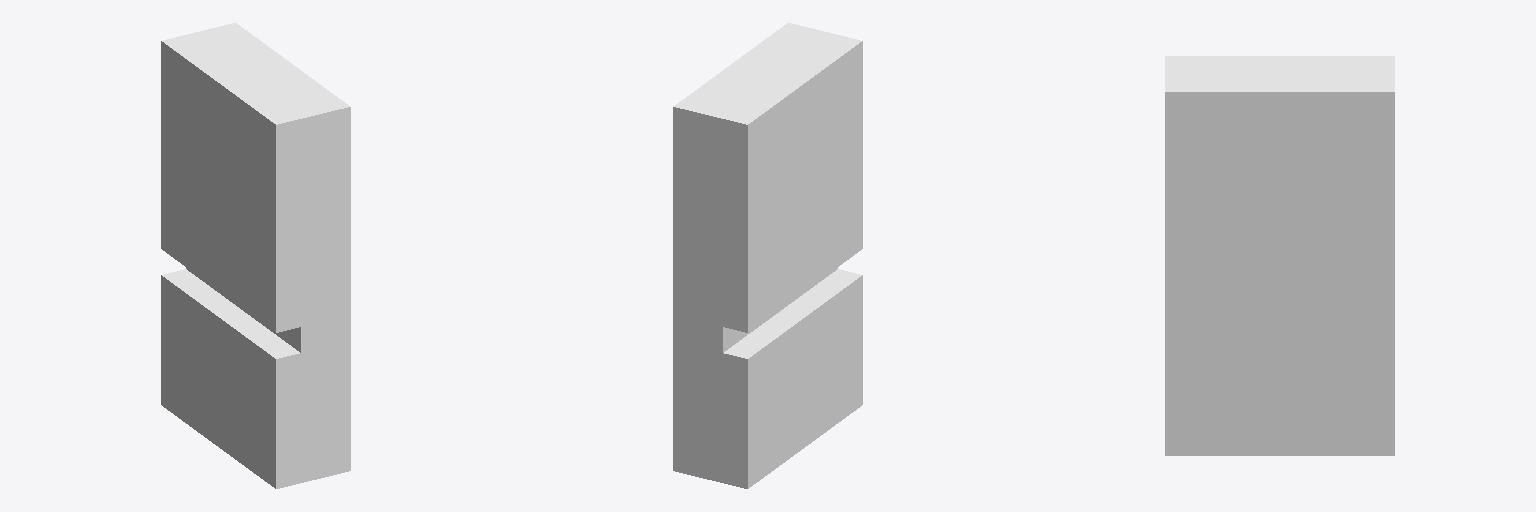
File: enemy_b_arm.obj
3 renders of one model, left to right at view 1: azimuth 30°, elevation 25°; view 2: azimuth 150°, elevation 25°; view 3: azimuth 270°, elevation 25°, orthographic.
Visible parts, largest first — view 1: object 1; view 2: object 1; view 3: object 1.
Boxes of the visible parts, x1=… form: object 1: x1=161, y1=23, x2=350, y2=488; object 1: x1=673, y1=23, x2=862, y2=488; object 1: x1=1165, y1=56, x2=1394, y2=455.
Size of the model in its own units: 0.3 by 1.4 by 0.8.